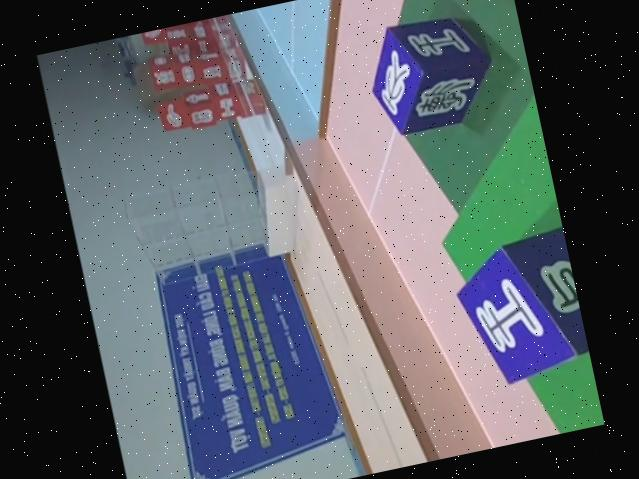R2 Fake Blue: (444, 223, 592, 392), (356, 5, 495, 139)
